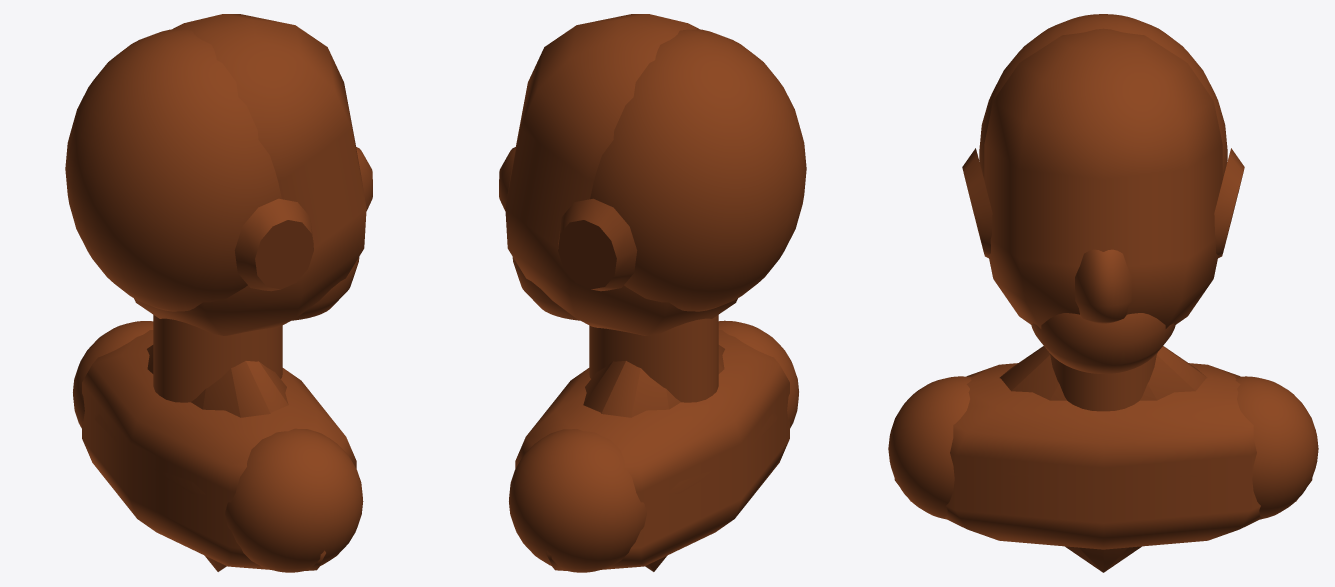
File: bust.gltf
3 renders of one model, left to right at view 1: azimuth 30°, elevation 25°; view 2: azimuth 150°, elevation 25°; view 3: azimuth 270°, elevation 25°, orthographic.
Parts seen in each view (by area): view 1: Sphere (×3), Capsule (×2), Cylinder (×2), Lathe, Torus (×2); view 2: Sphere (×3), Capsule (×2), Cylinder (×2), Lathe, Torus (×2); view 3: Capsule (×2), Sphere (×3), Torus (×2), Cylinder (×3), Lathe.
Part boxes in pixels (<box>): Sphere (×3): <box>65,29,363,572</box>; Capsule (×2): <box>82,14,366,570</box>; Cylinder (×2): <box>153,198,313,402</box>; Lathe: <box>94,345,288,571</box>; Torus (×2): <box>292,147,372,320</box>; Sphere (×3): <box>509,29,806,572</box>; Capsule (×2): <box>505,14,789,570</box>; Cylinder (×2): <box>558,198,718,402</box>; Lathe: <box>583,345,777,571</box>; Torus (×2): <box>499,147,579,320</box>; Capsule (×2): <box>894,28,1312,549</box>; Sphere (×3): <box>888,14,1318,519</box>; Torus (×2): <box>1031,249,1175,373</box>; Cylinder (×3): <box>962,148,1244,411</box>; Lathe: <box>999,346,1207,572</box>.
Bounding box in the file's own units: 2.27 × 4.1 × 3.
